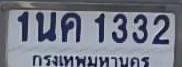1: (94, 12, 104, 42), (17, 11, 27, 41)
2: (152, 14, 168, 43)
3: (111, 13, 126, 42), (132, 13, 147, 42)
A04: (60, 12, 80, 42)
A25: (35, 11, 55, 41)
BKK: (30, 51, 152, 67)
